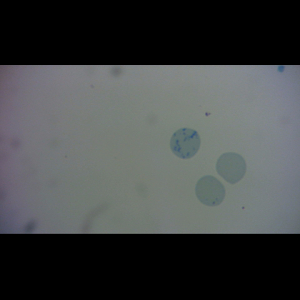aggregate reticulocyte: (168, 127, 203, 160)
erythrocyte: (214, 151, 248, 185)
punctate reticulocyte: (193, 174, 228, 208)
